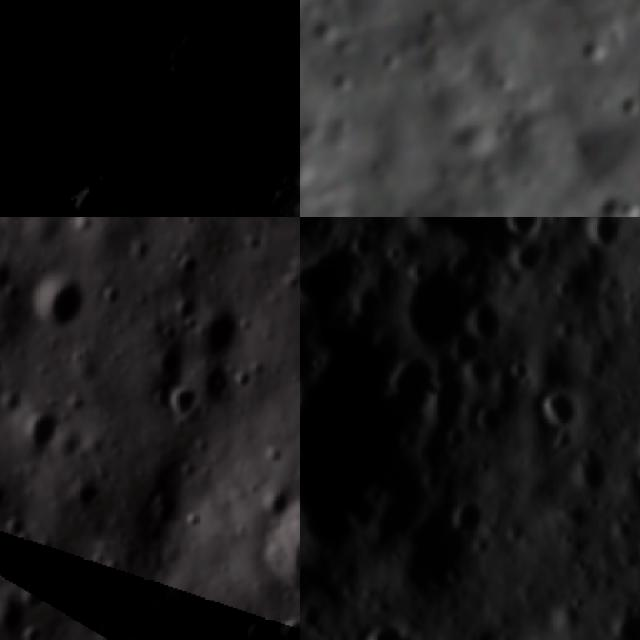crater: (0, 0, 125, 217), (168, 10, 299, 146), (378, 251, 497, 367), (300, 218, 373, 325), (559, 437, 627, 504), (260, 488, 300, 601), (28, 273, 90, 336), (460, 285, 520, 344), (439, 487, 504, 538), (530, 377, 588, 432), (191, 306, 244, 366), (13, 406, 65, 460), (346, 606, 423, 640), (576, 20, 620, 77), (569, 217, 628, 259), (590, 170, 640, 217), (598, 591, 640, 640), (487, 217, 555, 246), (163, 382, 200, 424), (252, 488, 295, 524), (148, 344, 185, 382), (300, 145, 329, 193), (18, 580, 54, 610), (61, 592, 92, 626), (98, 597, 132, 623), (0, 0, 25, 35), (239, 616, 273, 640), (22, 618, 56, 640), (490, 627, 543, 640), (276, 614, 300, 640), (0, 255, 15, 296), (0, 532, 14, 573), (185, 511, 208, 534)
